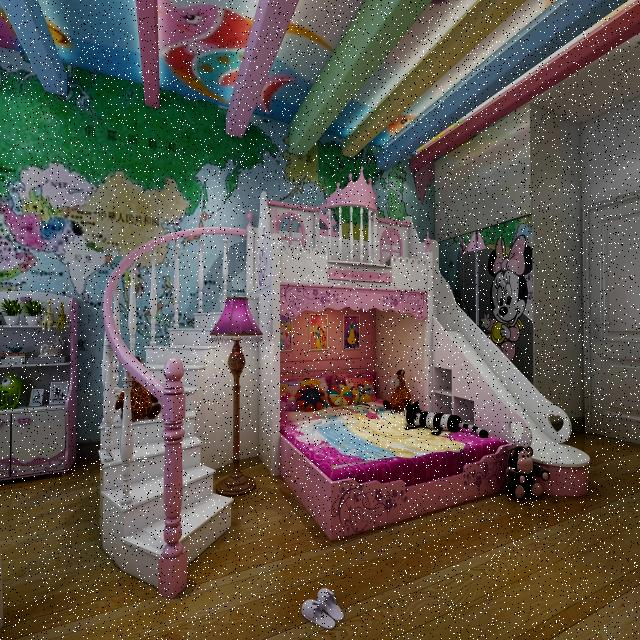bed: (276, 362, 515, 538)
